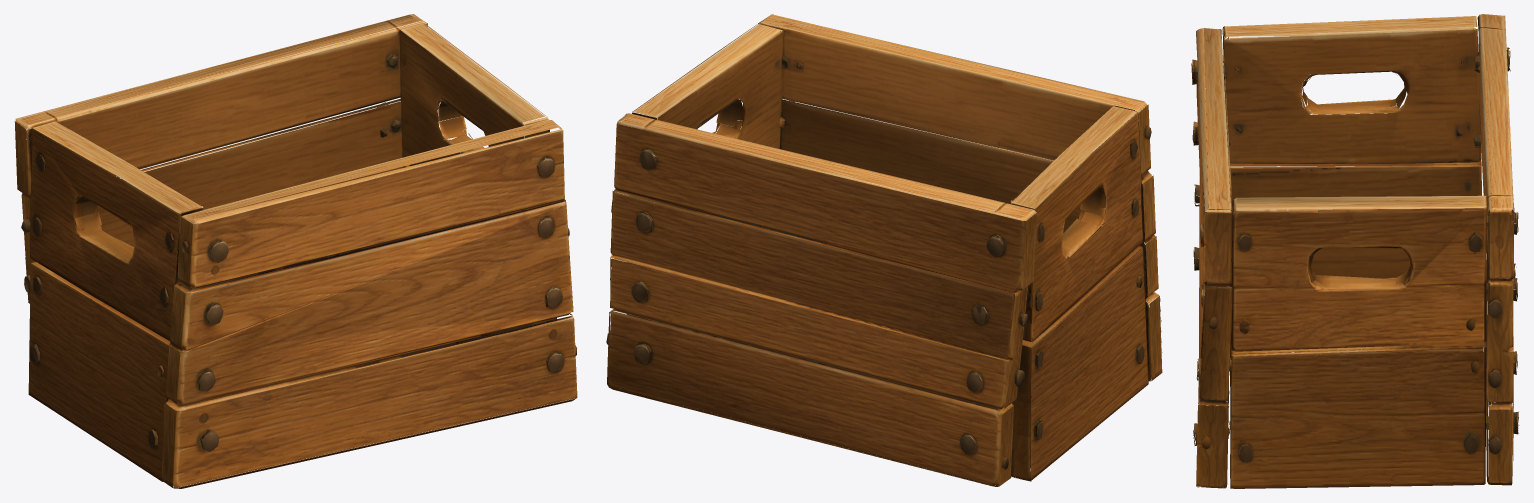
The picture shows the model from 3 angles, left to right: view 1: azimuth 30°, elevation 25°; view 2: azimuth 150°, elevation 25°; view 3: azimuth 270°, elevation 25°; orthographic projection.
Parts seen in each view (by area): view 1: c01_Empty_delivery_crate; view 2: c01_Empty_delivery_crate; view 3: c01_Empty_delivery_crate.
Part boxes in pixels (<box>): c01_Empty_delivery_crate: <box>14,14,577,488</box>; c01_Empty_delivery_crate: <box>606,14,1162,486</box>; c01_Empty_delivery_crate: <box>1191,14,1519,488</box>.
Bounding box in the file's own units: 0.5992 × 0.3798 × 0.3997.
1 material, 1 textured.
